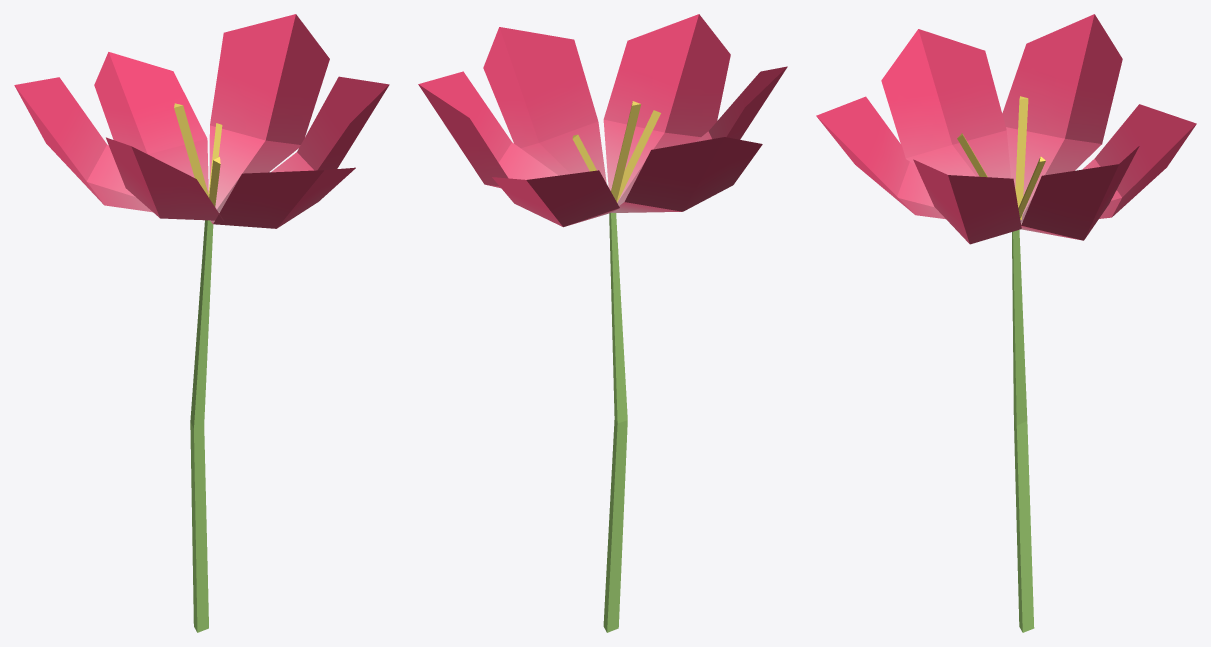
File: Flower_f_TwoS_05.fbx
3 views of the same model, side by side, from view 1: azimuth 30°, elevation 25°; view 2: azimuth 150°, elevation 25°; view 3: azimuth 270°, elevation 25° (orthographic). The views are drawn at different scales.
Parts seen in each view (by area): view 1: Flower_f_TwoS_05; view 2: Flower_f_TwoS_05; view 3: Flower_f_TwoS_05.
Part boxes in pixels (x1,y1,x2,y2): Flower_f_TwoS_05: (14, 14, 389, 632); Flower_f_TwoS_05: (418, 14, 787, 632); Flower_f_TwoS_05: (816, 14, 1196, 632).
Bounding box in the file's own units: 25.98 × 45.38 × 28.82.
